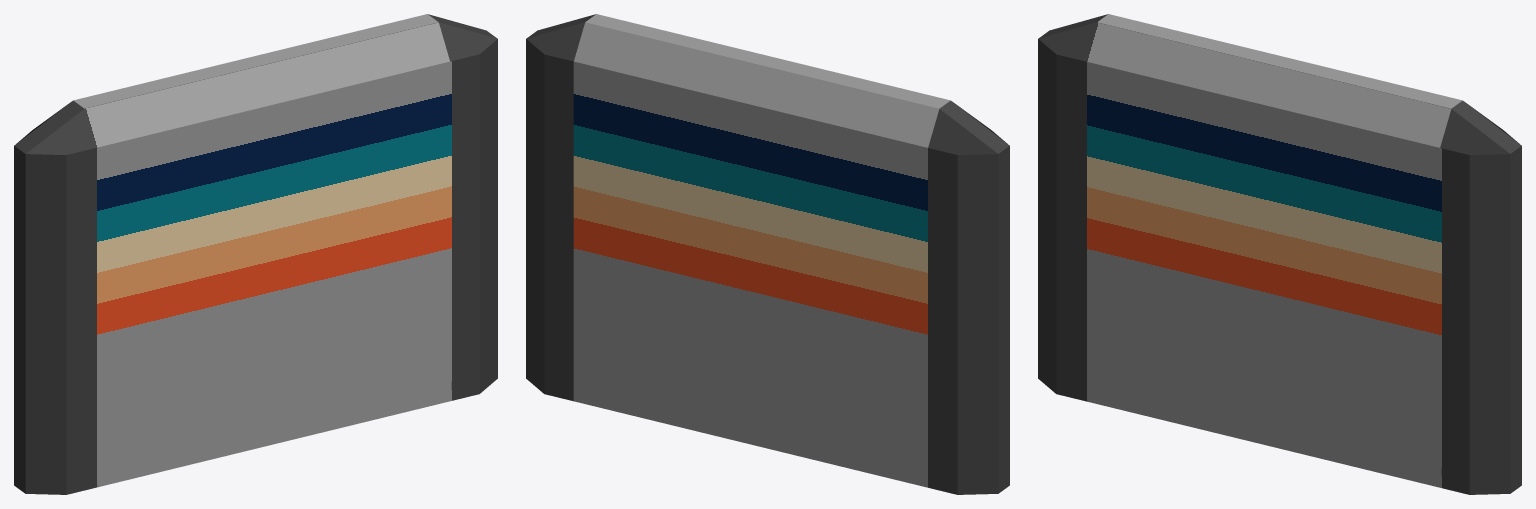
The model's file is CalShipCatWalkRail.gltf.
3 renders of one model, left to right at view 1: azimuth 30°, elevation 25°; view 2: azimuth 150°, elevation 25°; view 3: azimuth 330°, elevation 25°, orthographic.
Parts seen in each view (by area): view 1: mesh; view 2: mesh; view 3: mesh.
Boxes of the visible parts, x1,y1,x2,y2 form: mesh: [14, 14, 497, 494]; mesh: [526, 14, 1009, 494]; mesh: [1038, 14, 1521, 494].
Bounding box in the file's own units: 1 × 0.75 × 0.125.
1 material, 1 textured.
